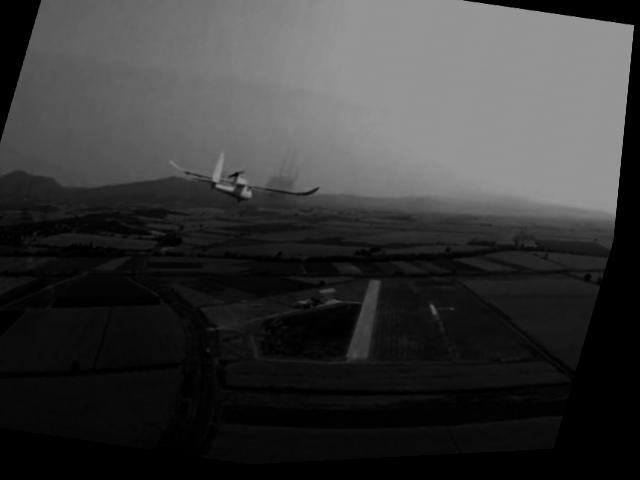hedef: (148, 131, 340, 243)
